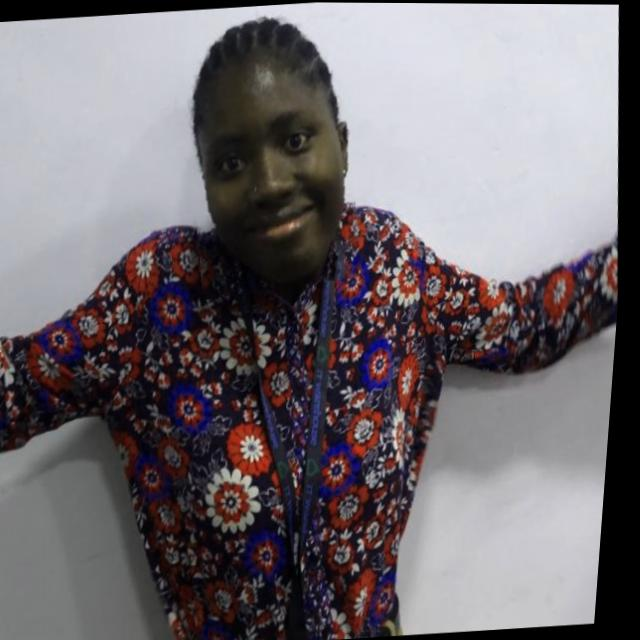happy: (170, 8, 376, 298)
